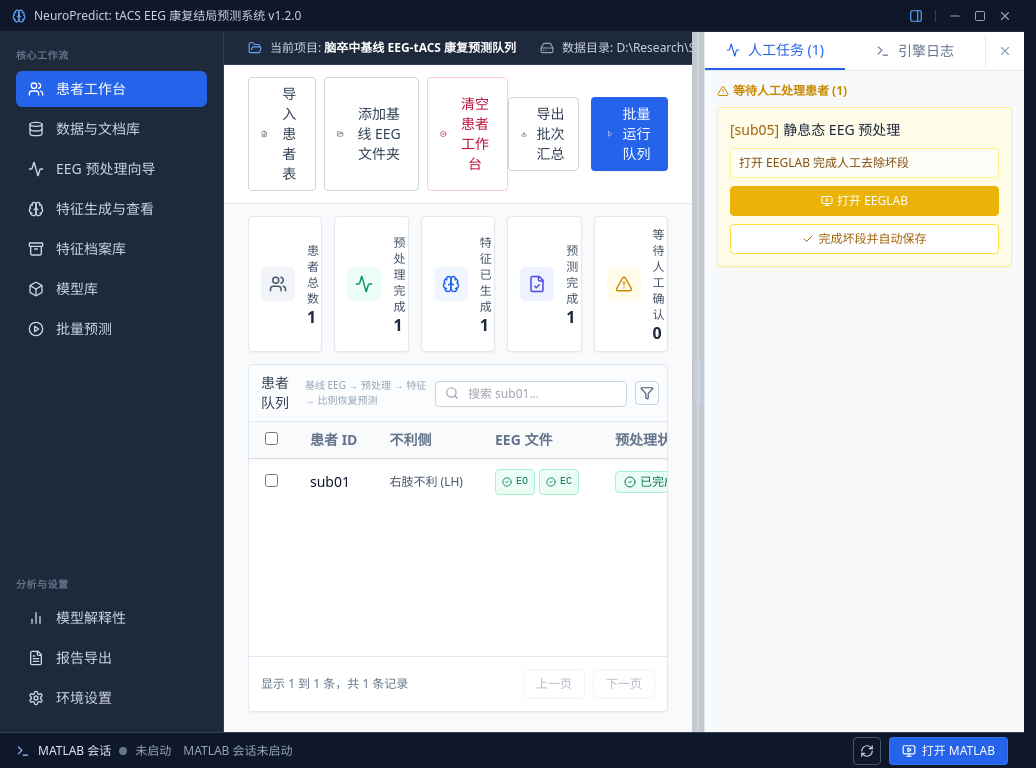
it: Gemini patient workbench shell › completes a manual preprocessing checkpoint from the right task panel
Expected: the text "静息态 EEG 预处理" is shown, [783, 120, 900, 139]
Expected: the text "打开 EEGLAB 完成人工去除坏段" is shown, [730, 148, 999, 178]
Click the button "完成坏段并自动保存": {"x": 864, "y": 239} [730, 224, 999, 254]
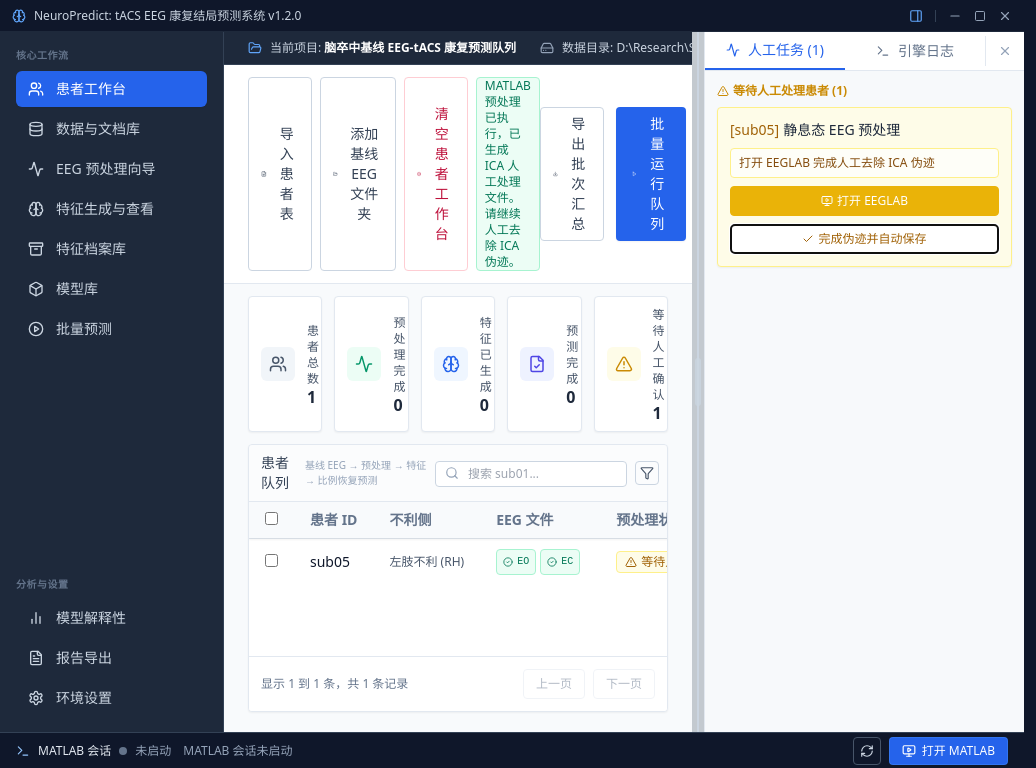
Expected: the text "MATLAB 预处理已执行，已生成 ICA 人工处理文件。请继续人工去除 ICA 伪迹。" is shown, [476, 77, 540, 271]
Expected: the text "打开 EEGLAB 完成人工去除 ICA 伪迹" is shown, [730, 148, 999, 178]
